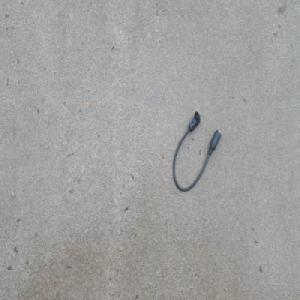Wire: (173, 110, 223, 192)
